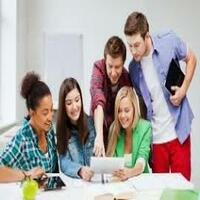person: (121, 8, 163, 76), (17, 69, 56, 134), (56, 67, 92, 128), (88, 35, 131, 83), (105, 79, 144, 130)
